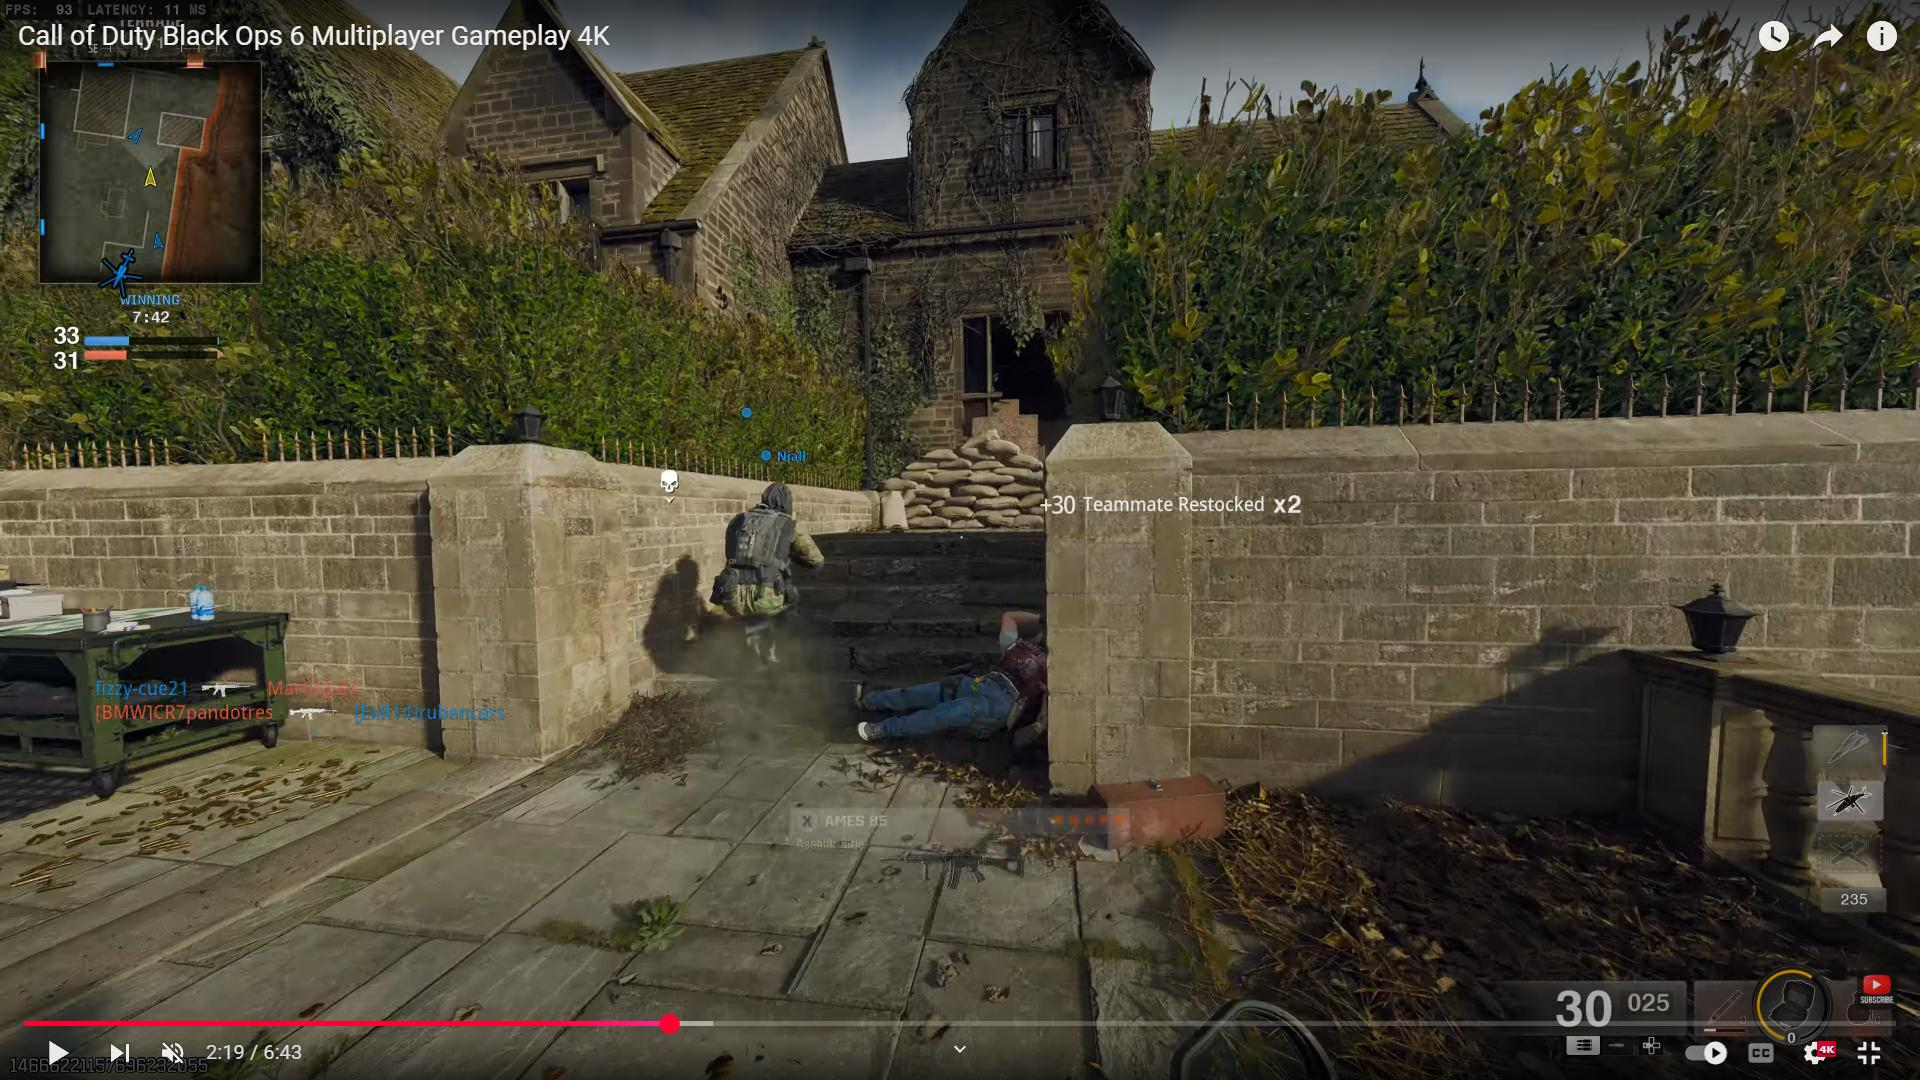Enemy: (707, 476, 810, 709)
